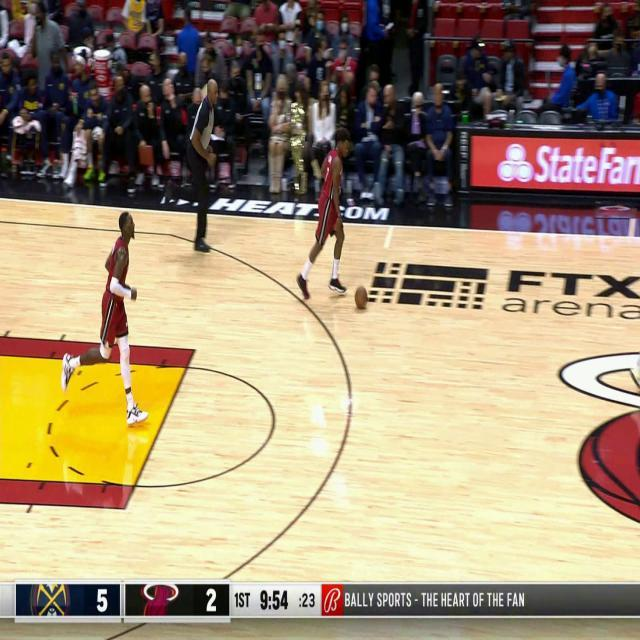rim: (354, 285, 368, 309)
